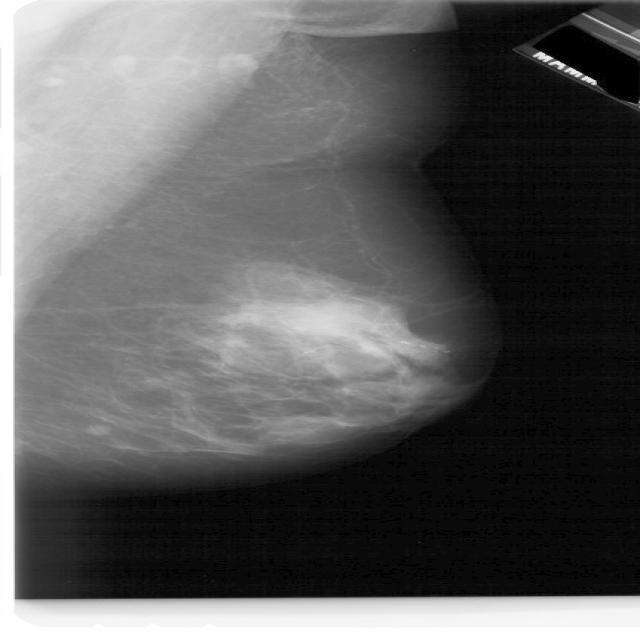tumour: (83, 423, 114, 436)
